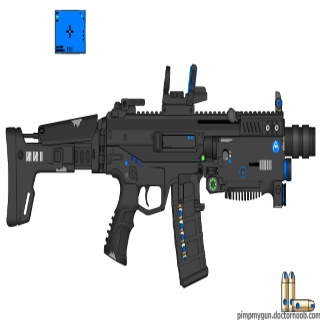rifle: (3, 61, 319, 287)
